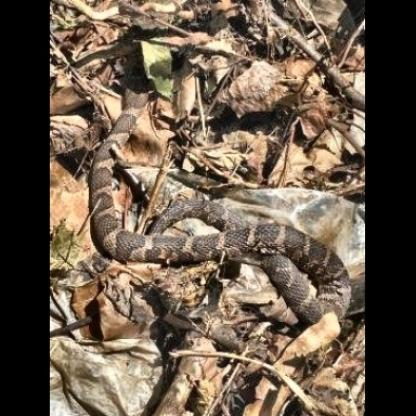Snake: (79, 50, 342, 416)
